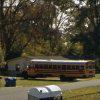Bus: (25, 54, 98, 83)
